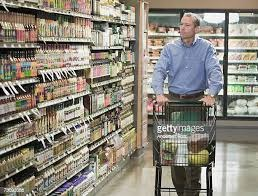with_basket: (152, 96, 215, 193)
without_mask: (178, 14, 200, 39)
